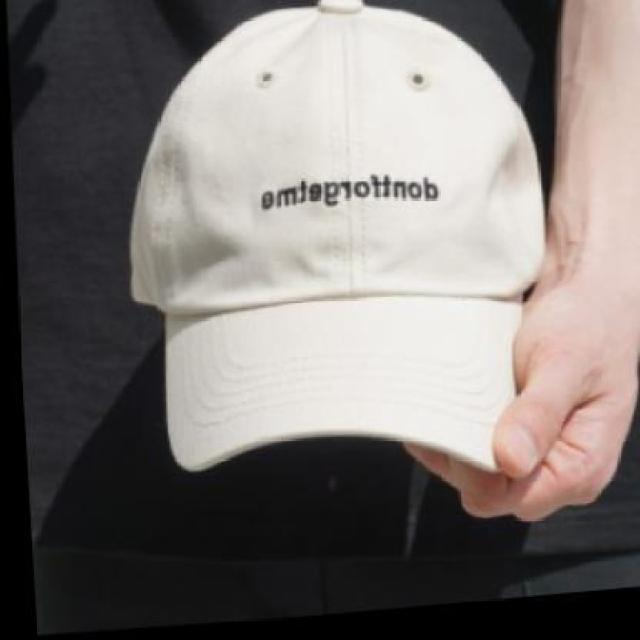hat: (100, 0, 560, 489)
